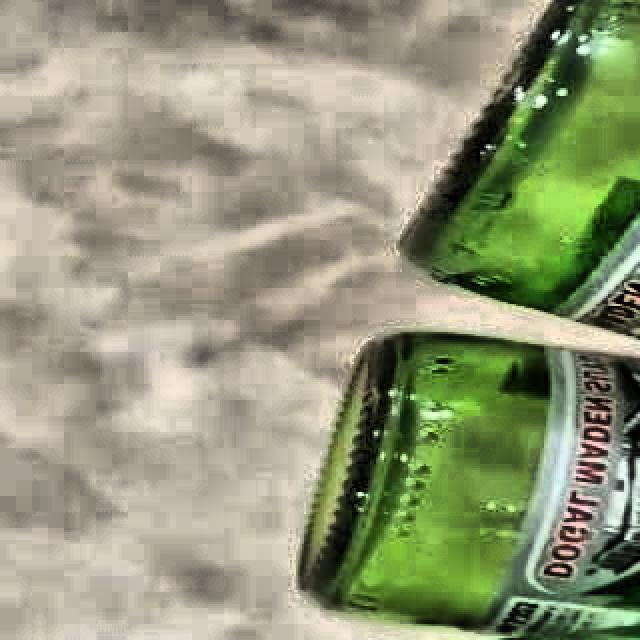glass: (301, 332, 640, 640)
